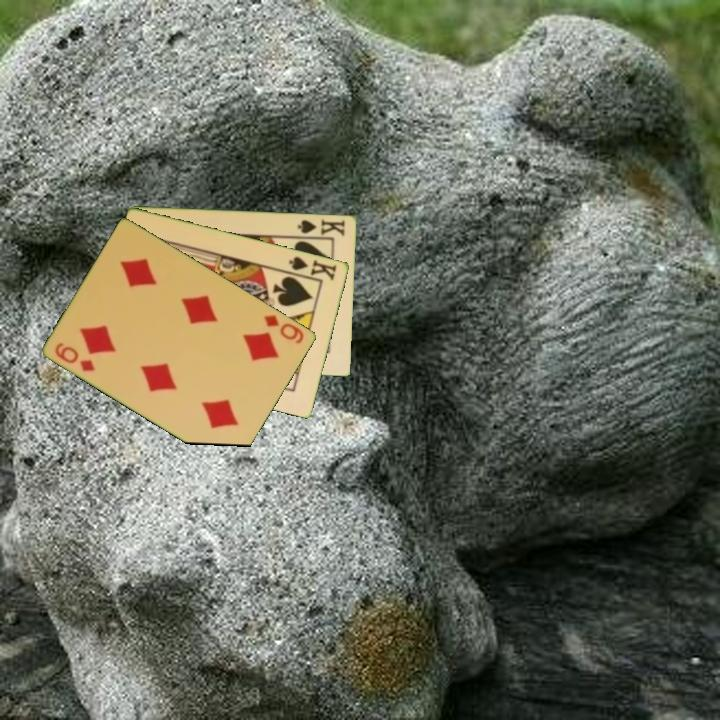6d: (261, 311, 307, 347), (52, 339, 98, 374)
Ks: (284, 253, 340, 284), (294, 216, 348, 240)
